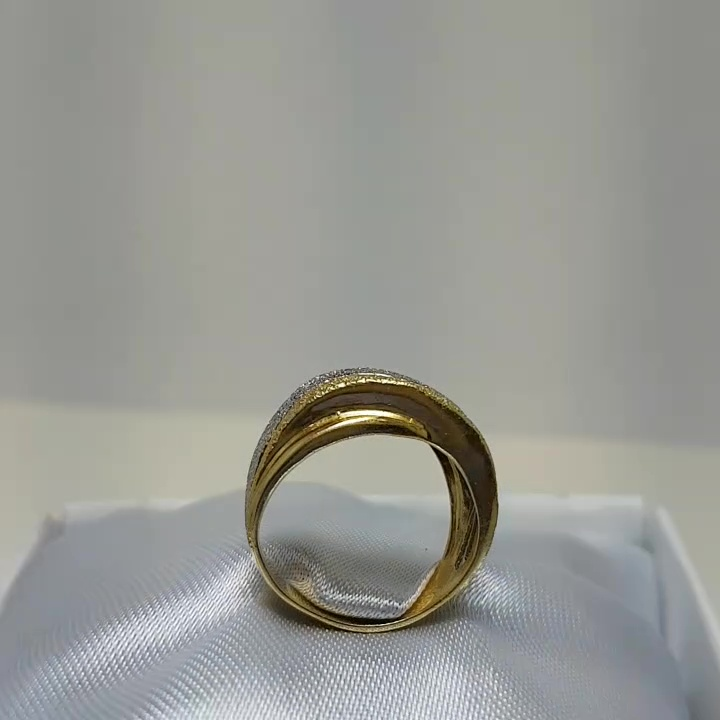Ring 5: (236, 341, 529, 645)
